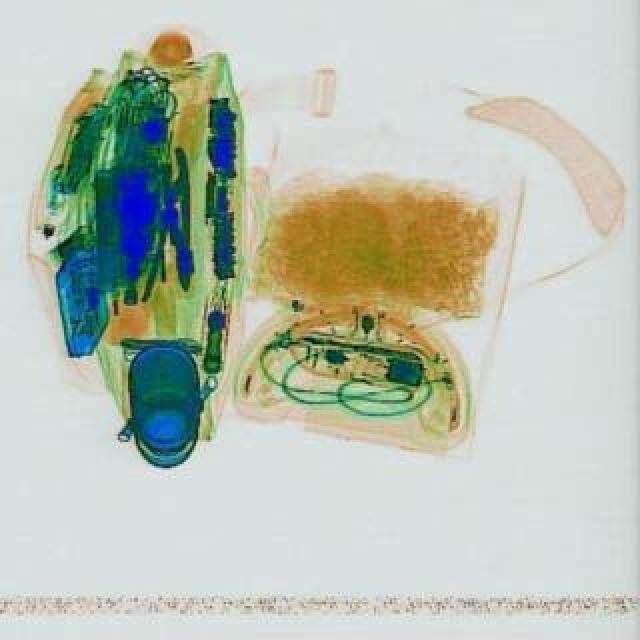wrench: (158, 152, 202, 296)
